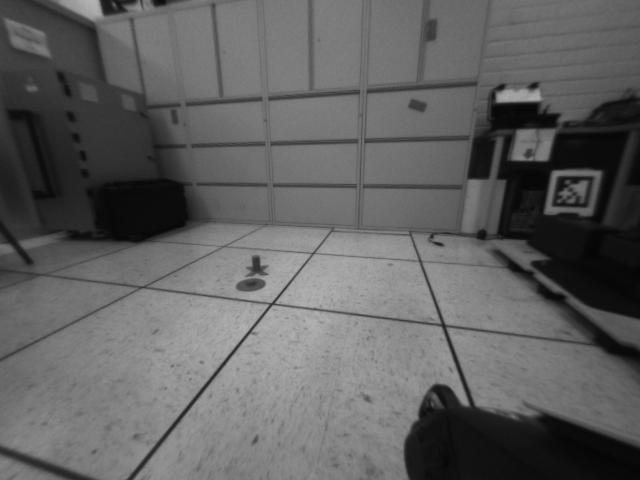X: (245, 255, 270, 277)
